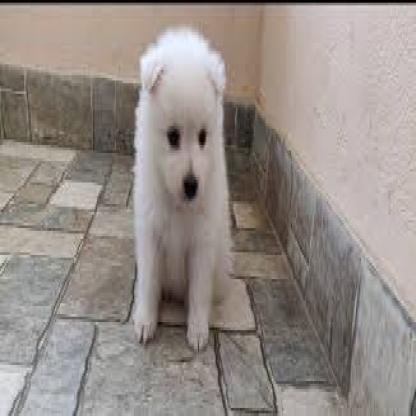Japanese Spitz: (130, 25, 233, 356)
